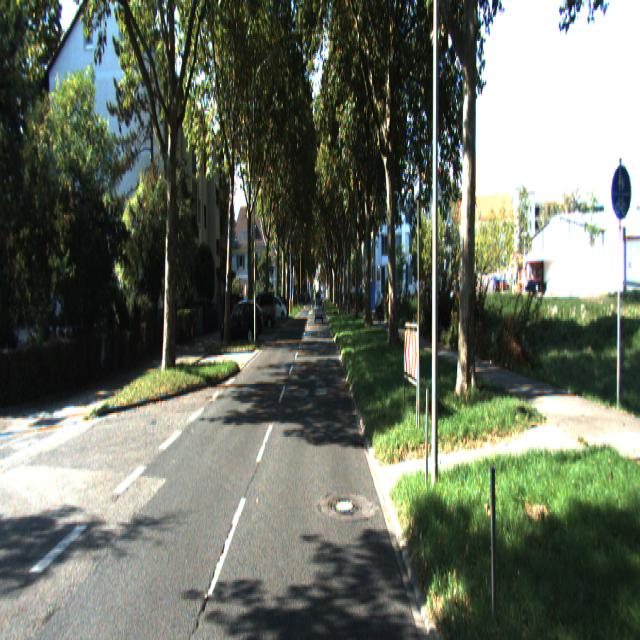Car: (222, 304, 260, 352)
